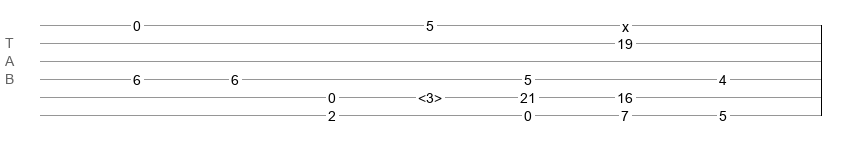0: (133, 18, 141, 28), (328, 90, 336, 100), (524, 108, 532, 118)
16: (617, 90, 633, 100)
19: (617, 36, 633, 46)
2: (328, 108, 336, 118)
21: (520, 90, 536, 100)
4: (719, 72, 727, 82)
5: (426, 18, 434, 28), (524, 72, 532, 82), (719, 108, 727, 118)
6: (133, 72, 141, 82), (231, 72, 239, 82)
7: (621, 108, 629, 118)
harmonic: (418, 90, 442, 100)
x: (622, 19, 629, 27)
